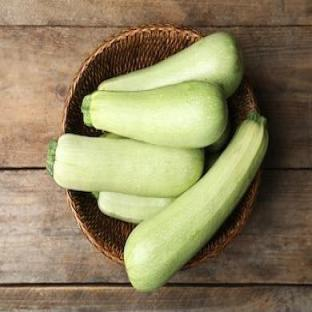Zucchini: (124, 113, 267, 291), (48, 134, 203, 196), (82, 81, 227, 147), (99, 33, 243, 97), (97, 192, 174, 223), (206, 118, 230, 153)
